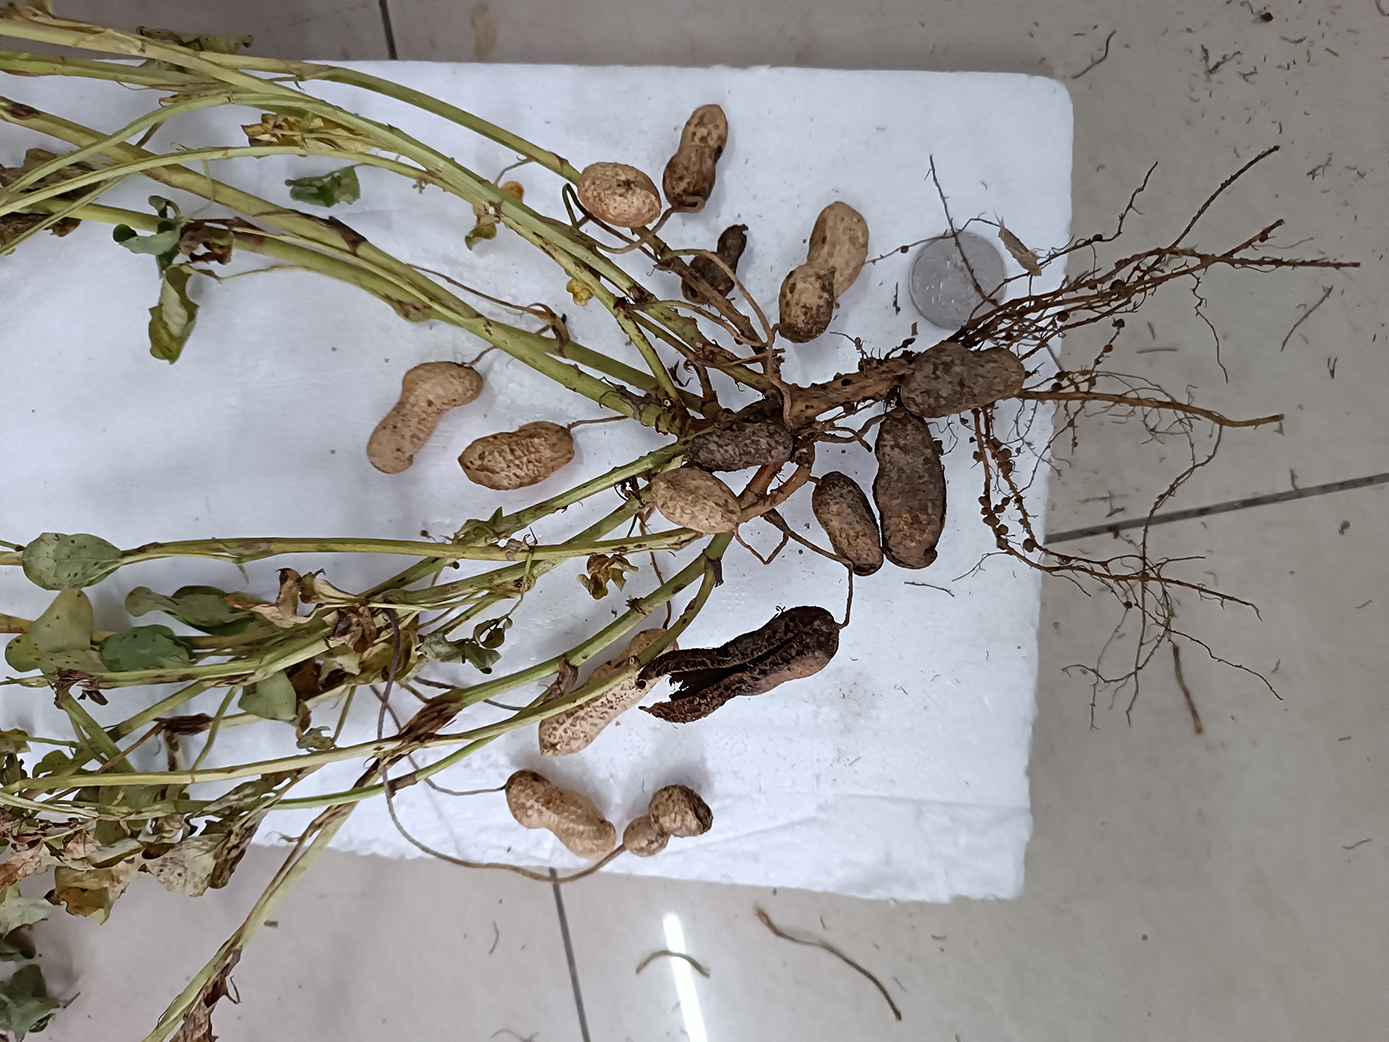h: (537, 628, 680, 759), (364, 360, 485, 475), (778, 201, 870, 341), (505, 771, 618, 859), (455, 422, 576, 490), (621, 782, 716, 859), (652, 468, 741, 532), (580, 161, 662, 228)
l: (637, 605, 841, 725), (873, 412, 947, 568), (895, 341, 1028, 416), (661, 101, 730, 211), (811, 472, 883, 575), (685, 415, 791, 471), (682, 224, 750, 303)
